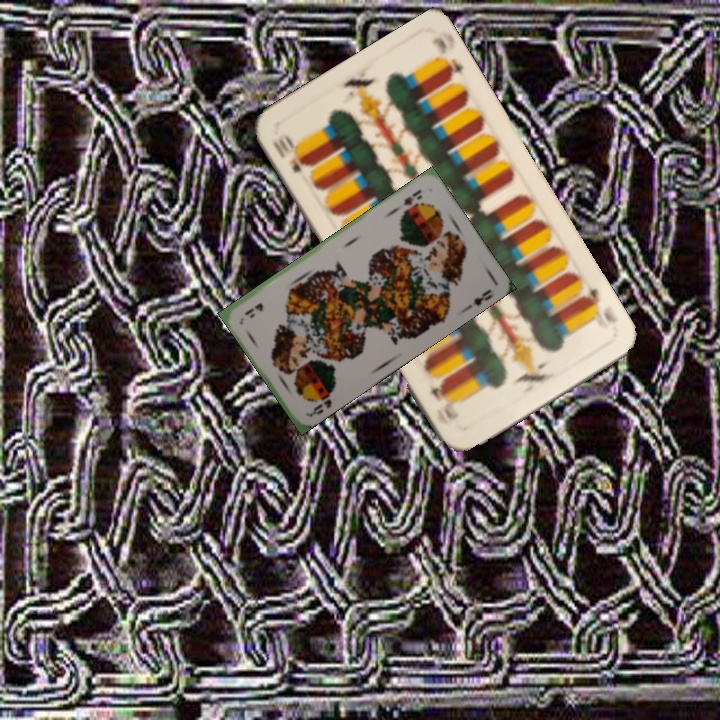E10: (577, 282, 621, 326), (269, 130, 311, 176)
SO: (303, 385, 336, 419), (399, 185, 425, 208)
